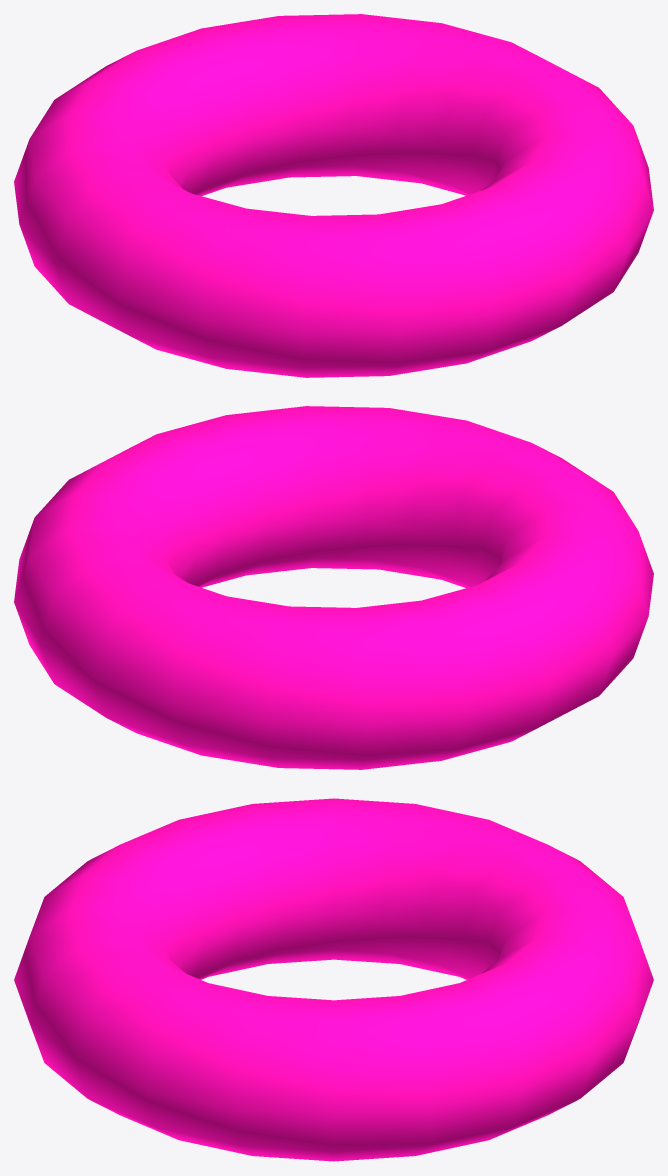
The model's file is BaseToroids.007.glb.
3 views of the same model, one above another, from view 1: azimuth 30°, elevation 25°; view 2: azimuth 150°, elevation 25°; view 3: azimuth 270°, elevation 25° (orthographic).
Parts seen in each view (by area): view 1: BaseToroids.007; view 2: BaseToroids.007; view 3: BaseToroids.007.
Part boxes in pixels (x1,y1,x2,y2): BaseToroids.007: (14,14,653,377); BaseToroids.007: (14,406,653,769); BaseToroids.007: (14,798,653,1161).
Size of what is drawn, in the model's own units: 0.9438 by 0.2278 by 0.9438.
1 material, 1 textured.
